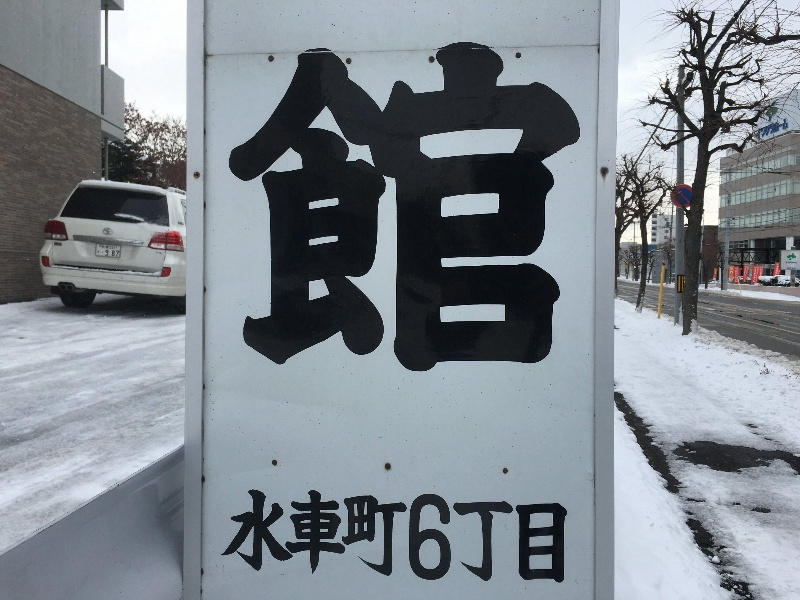text: (241, 42, 256, 375), (257, 42, 272, 375), (273, 42, 288, 375), (289, 42, 304, 375), (305, 42, 320, 375), (321, 42, 336, 375), (337, 42, 352, 375), (353, 42, 368, 375), (369, 42, 384, 375), (385, 42, 400, 375), (401, 42, 416, 375), (417, 42, 432, 375), (433, 42, 448, 375), (449, 42, 464, 375), (465, 42, 480, 375), (481, 42, 496, 375), (497, 42, 512, 375), (513, 42, 528, 375), (529, 42, 544, 375), (545, 42, 560, 375), (561, 42, 576, 375), (577, 42, 589, 375), (235, 42, 240, 375), (225, 486, 240, 589), (241, 486, 256, 589), (257, 486, 272, 589), (273, 486, 288, 589), (289, 486, 304, 589), (305, 486, 320, 589), (321, 486, 336, 589), (337, 486, 352, 589), (353, 486, 368, 589), (369, 486, 384, 589), (385, 486, 400, 589), (401, 486, 416, 589), (417, 486, 432, 589), (433, 486, 448, 589), (449, 486, 464, 589), (465, 486, 480, 589), (481, 486, 496, 589), (497, 486, 512, 589), (513, 486, 528, 589), (529, 486, 544, 589), (545, 486, 560, 589), (561, 486, 569, 589), (769, 118, 784, 139), (756, 118, 768, 139), (755, 269, 768, 283), (98, 249, 112, 257), (785, 118, 790, 139), (730, 267, 736, 281), (777, 266, 784, 276), (99, 245, 112, 250), (745, 268, 752, 276), (760, 269, 768, 276), (715, 270, 720, 280), (113, 249, 119, 257), (786, 262, 800, 264), (787, 268, 800, 270), (113, 245, 117, 250), (735, 268, 736, 283), (737, 268, 738, 283)
